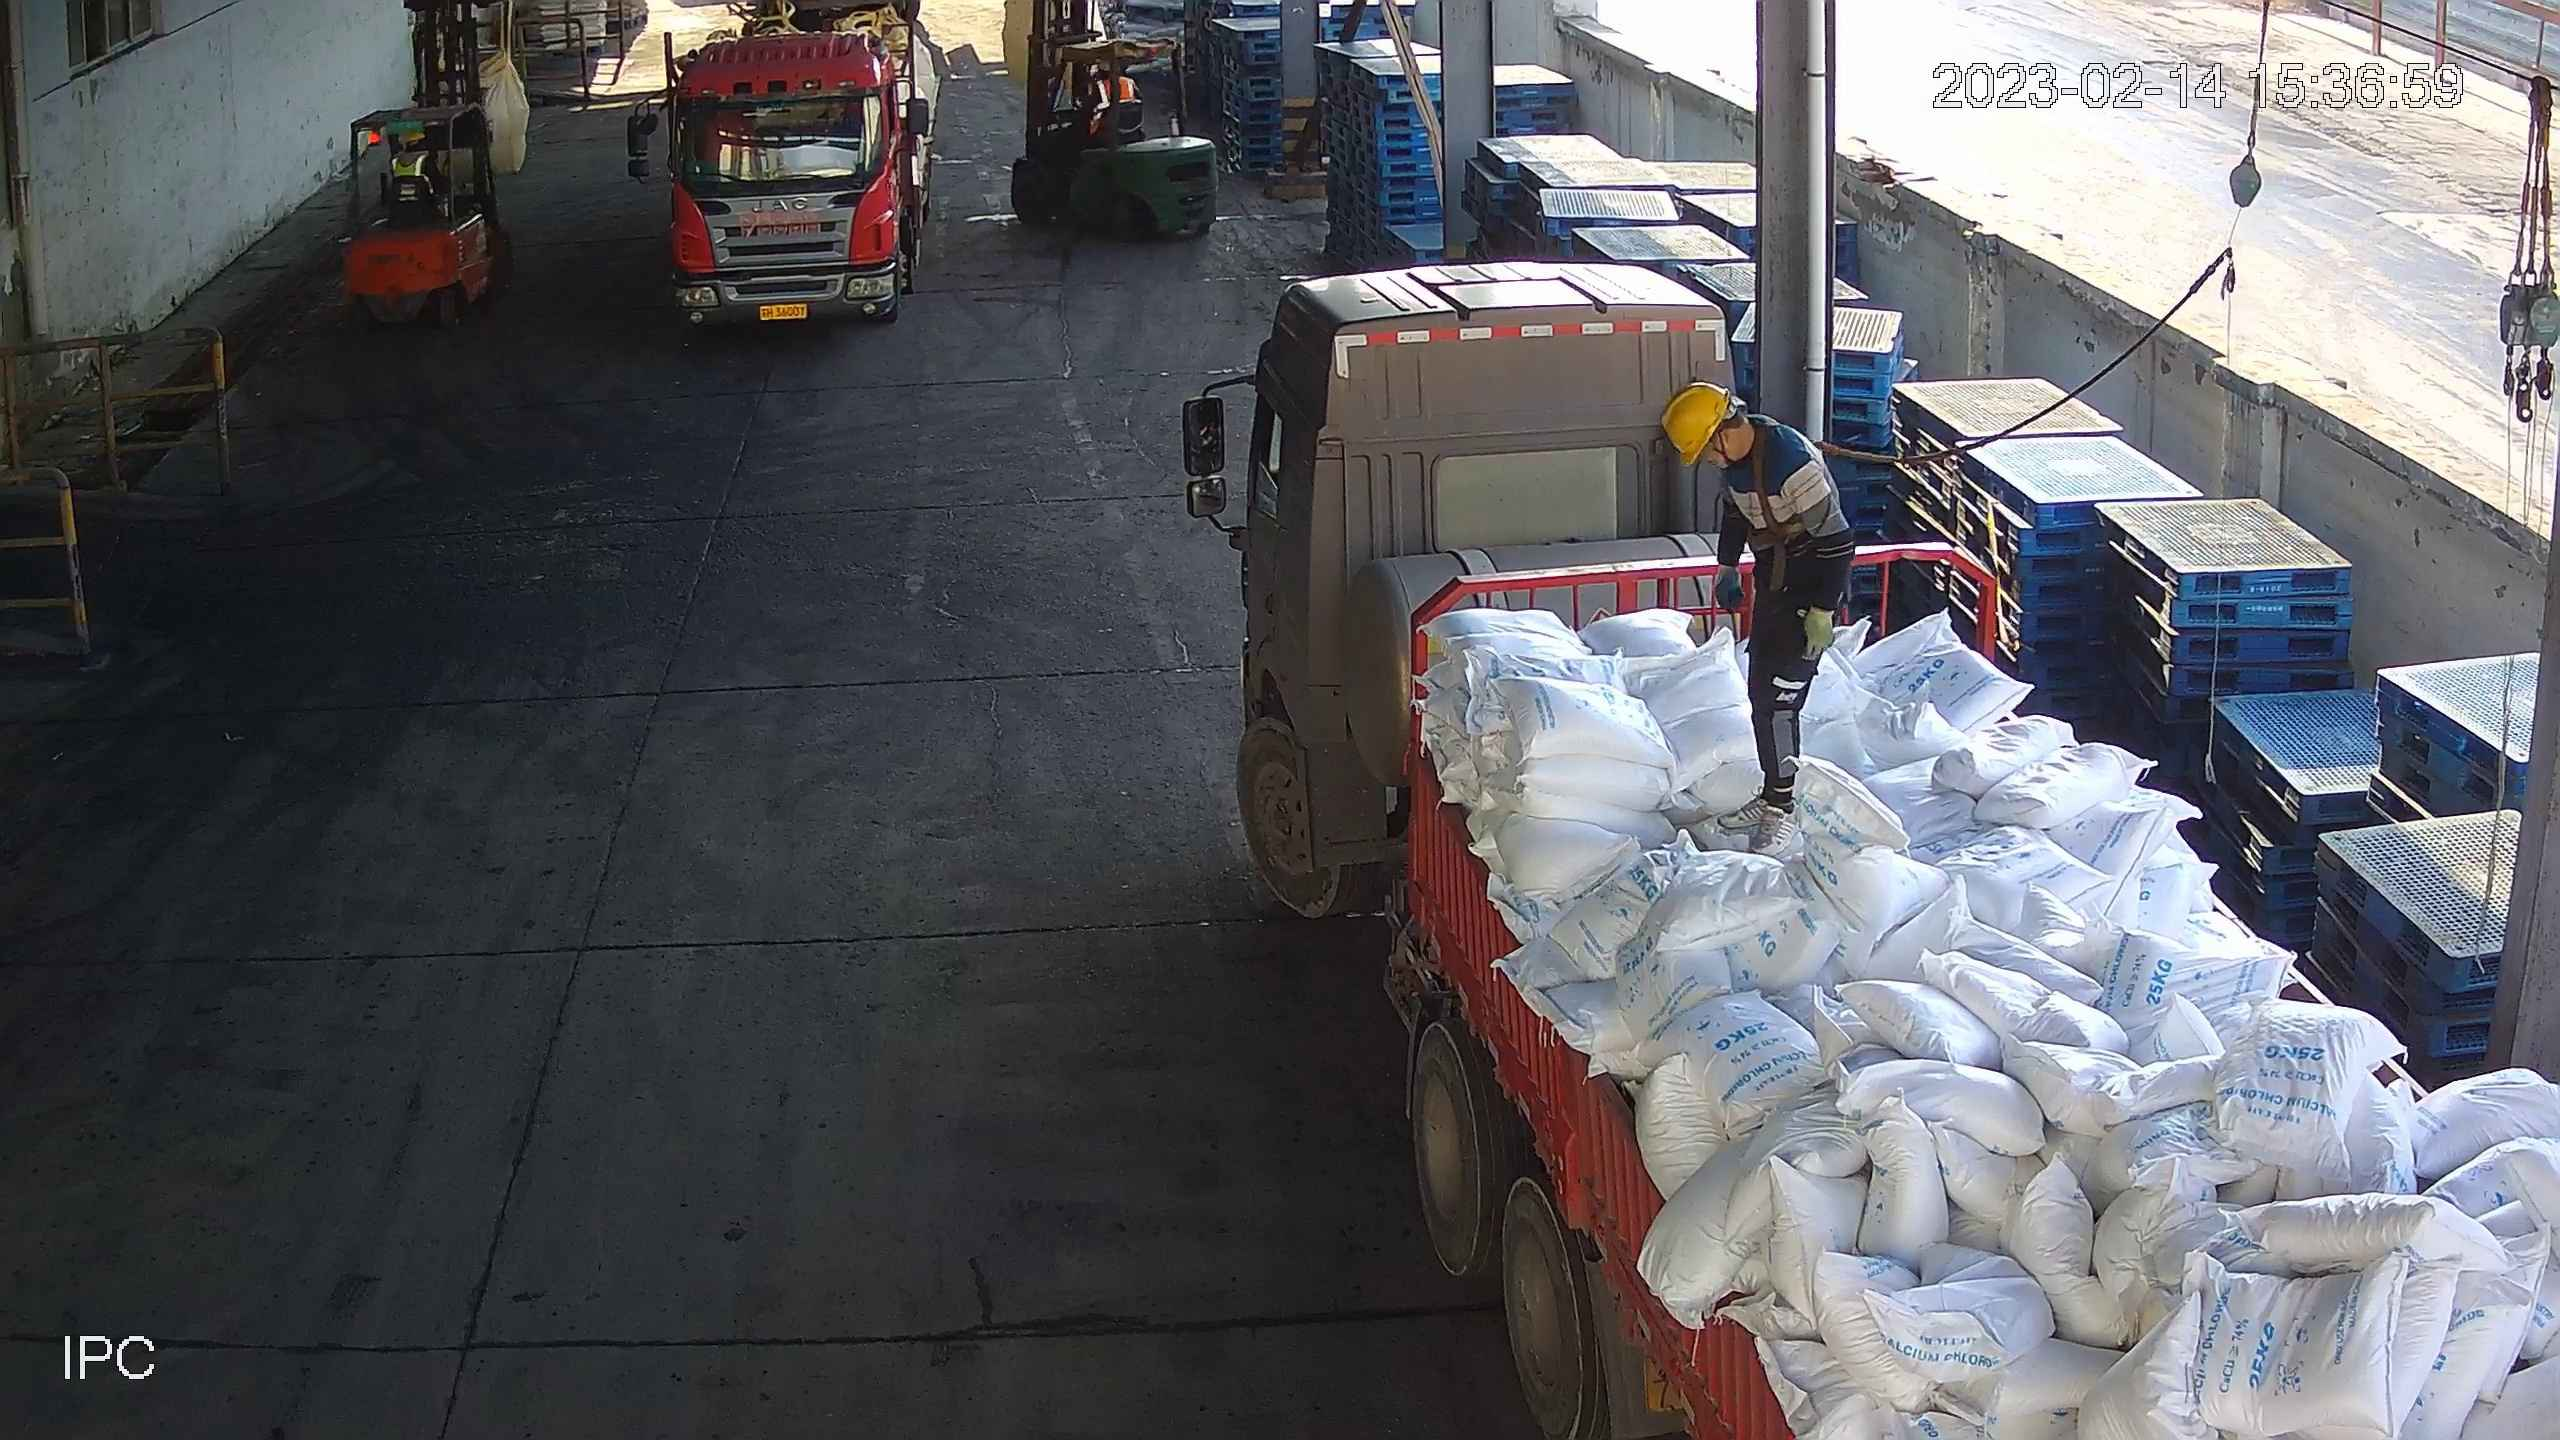belt: (1751, 406, 1812, 530)
head: (1657, 382, 1838, 512)
helmet: (1661, 380, 1735, 473)
people: (1649, 380, 1864, 851)
truck: (1190, 264, 2560, 1440), (653, 1, 946, 332)
